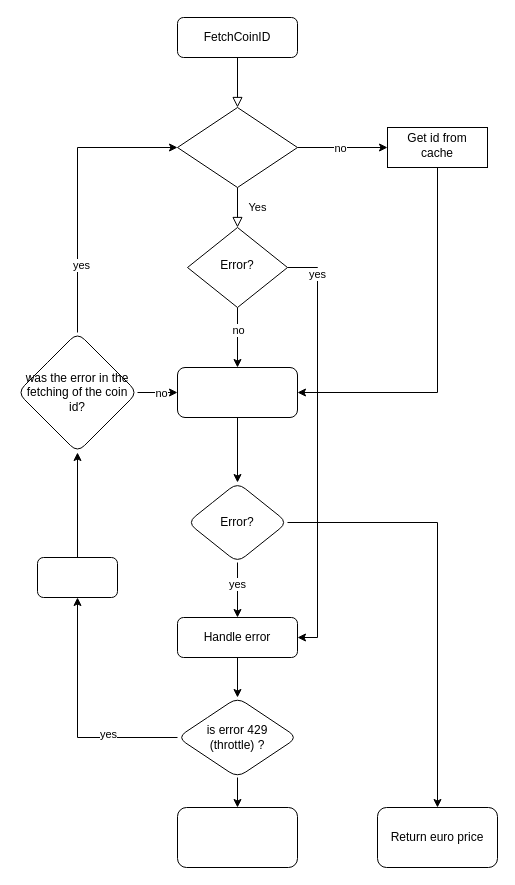
The diagram is 515 pixels wide and 885 high, and some of its shapes have lost their labels. Each missing label, with the box of its shape:
fetch euro price of that coin id in that transaction date: (176, 366, 298, 418)
First time fetching this id?: (176, 106, 298, 188)
return error as a string: (176, 806, 298, 868)
Wait 10 s: (36, 556, 118, 598)
